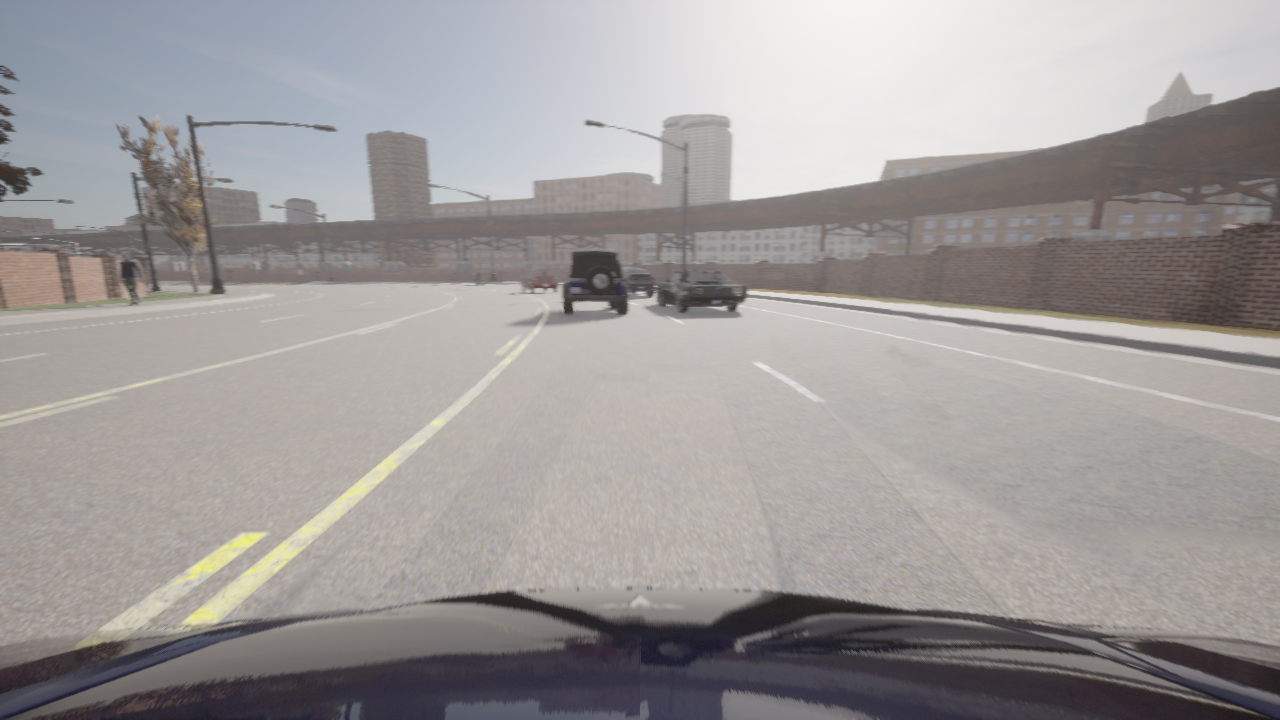cyclist: (0, 588, 1279, 719), (562, 249, 628, 314), (657, 270, 747, 311), (621, 267, 654, 295), (521, 268, 558, 292), (475, 275, 484, 284)
pedestrian: (120, 252, 143, 305)
